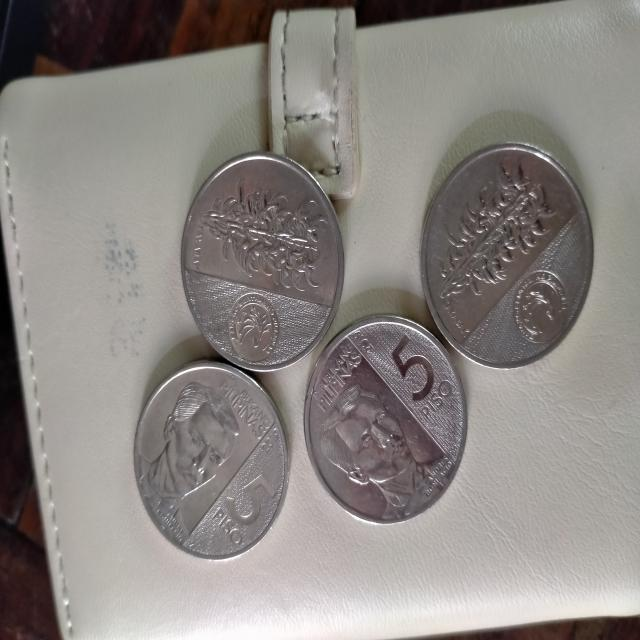5_New_Back: (428, 148, 554, 305), (188, 182, 328, 292)
5_New_Front: (386, 321, 465, 445), (198, 457, 280, 551)
